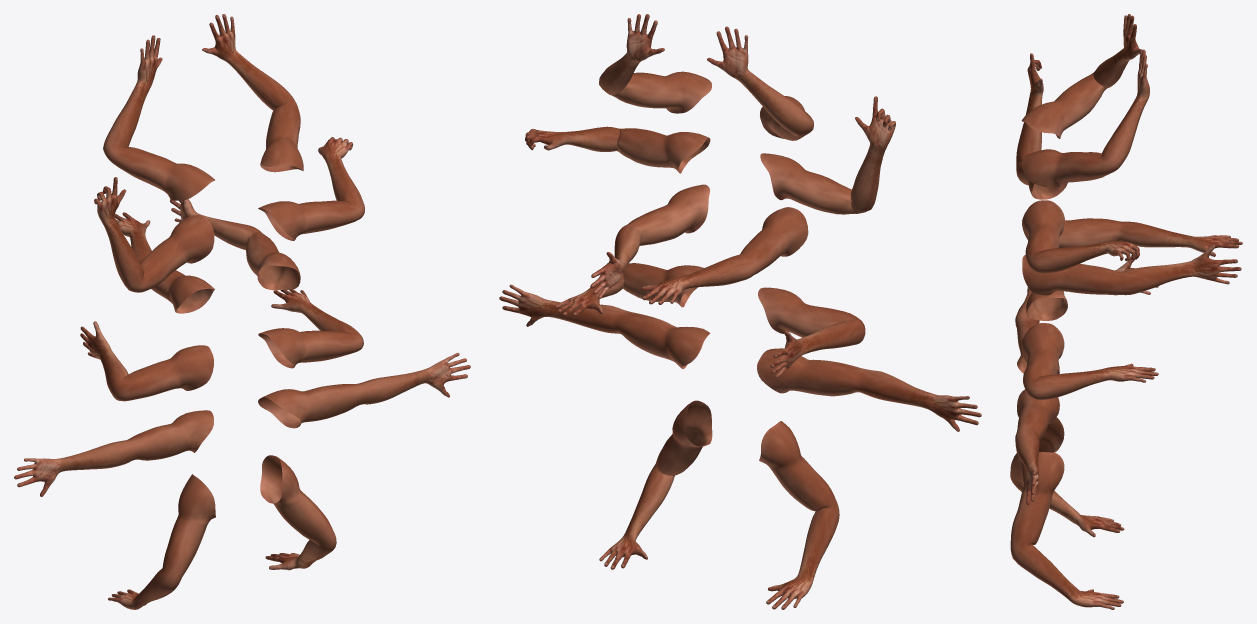
Rendered from fps-_arms.glb.
3 views of the same model, side by side, from view 1: azimuth 30°, elevation 25°; view 2: azimuth 150°, elevation 25°; view 3: azimuth 270°, elevation 25° (orthographic). The views are drawn at different scales.
Visible parts, largest first — view 1: Arms_Obj.002, Arms_Obj.003, Arms_Obj.005, Arms_Obj, Arms_Obj.004, Arms_Obj.001; view 2: Arms_Obj.002, Arms_Obj.004, Arms_Obj.005, Arms_Obj.001, Arms_Obj.003, Arms_Obj; view 3: Arms_Obj.001, Arms_Obj.003, Arms_Obj.004, Arms_Obj.005, Arms_Obj, Arms_Obj.002.
Part boxes in pixels (bbox=[...]): Arms_Obj.002: bbox=[14, 352, 470, 496]; Arms_Obj.003: bbox=[103, 14, 303, 200]; Arms_Obj.005: bbox=[94, 137, 364, 292]; Arms_Obj: bbox=[80, 289, 363, 401]; Arms_Obj.004: bbox=[108, 455, 336, 609]; Arms_Obj.001: bbox=[115, 199, 300, 313]; Arms_Obj.002: bbox=[499, 284, 981, 431]; Arms_Obj.004: bbox=[599, 400, 839, 609]; Arms_Obj.005: bbox=[525, 96, 895, 214]; Arms_Obj.001: bbox=[590, 184, 808, 304]; Arms_Obj.003: bbox=[599, 14, 813, 140]; Arms_Obj: bbox=[555, 263, 865, 377]; Arms_Obj.001: bbox=[1022, 218, 1242, 295]; Arms_Obj.003: bbox=[1021, 14, 1149, 188]; Arms_Obj.004: bbox=[1010, 417, 1124, 609]; Arms_Obj.005: bbox=[1016, 53, 1139, 273]; Arms_Obj: bbox=[1021, 259, 1158, 399]; Arms_Obj.002: bbox=[1015, 287, 1059, 504].
Size of the model in its own units: 8.78 by 10.03 by 3.96.
1 material, 1 textured.
